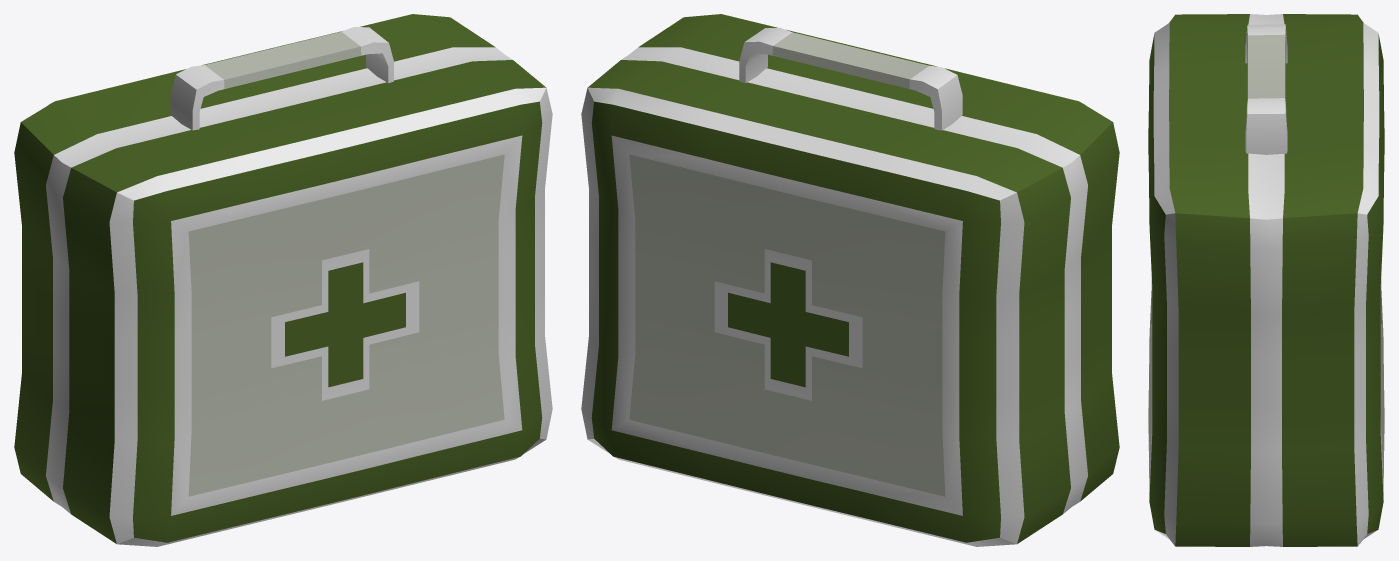
Rendered from first_aid_kit.glb.
3 renders of one model, left to right at view 1: azimuth 30°, elevation 25°; view 2: azimuth 150°, elevation 25°; view 3: azimuth 270°, elevation 25°, orthographic. The views are drawn at different scales.
Parts seen in each view (by area): view 1: Health; view 2: Health; view 3: Health.
Part boxes in pixels (box(x1,y1,x2,y2)): Health: box(14, 14, 552, 546); Health: box(581, 14, 1119, 546); Health: box(1148, 14, 1384, 546).
Bounding box in the file's own units: 0.861 × 0.7376 × 0.4039.
